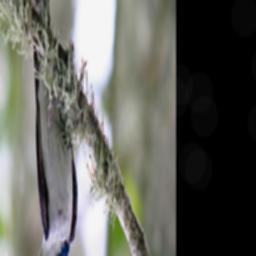Swallow: (28, 0, 79, 256)
